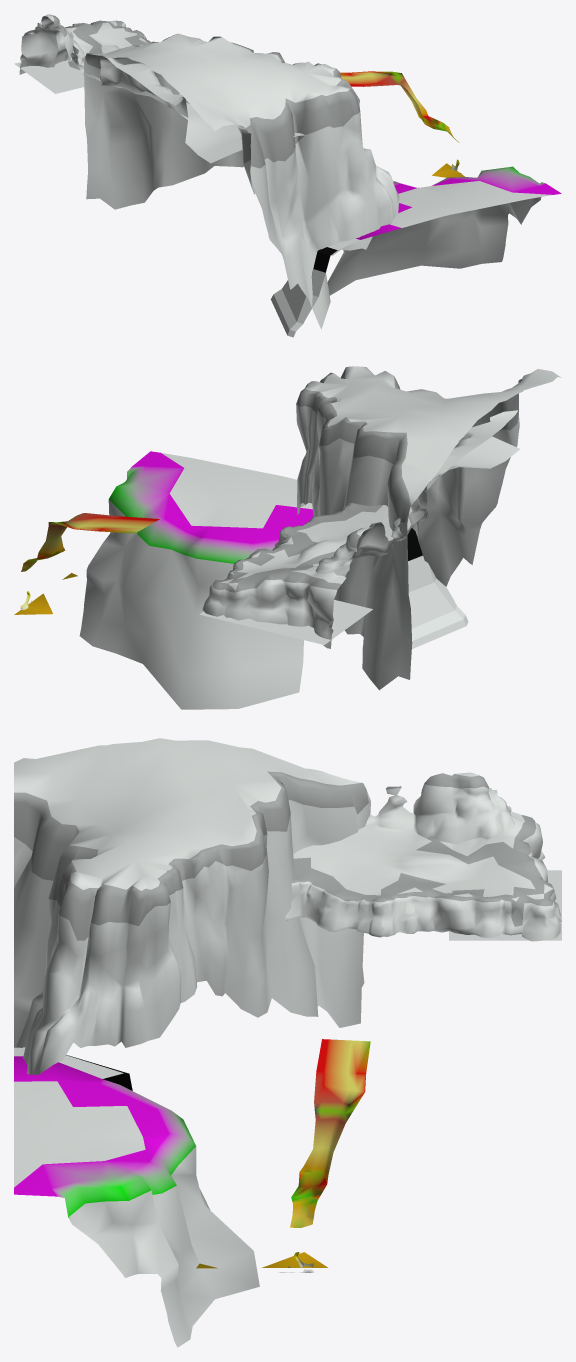
3 views of the same model, one above another, from view 1: azimuth 30°, elevation 25°; view 2: azimuth 150°, elevation 25°; view 3: azimuth 270°, elevation 25° (orthographic). The views are drawn at different scales.
Visible parts, largest first — view 1: G:\FFXIV-MapTools\exports\f1f1\bg\ffxiv\fst_f1\fld\f1f1\bgpl (×8); view 2: G:\FFXIV-MapTools\exports\f1f1\bg\ffxiv\fst_f1\fld\f1f1\bgpl (×10); view 3: G:\FFXIV-MapTools\exports\f1f1\bg\ffxiv\fst_f1\fld\f1f1\bgpl (×9).
Part boxes in pixels (box(x1,y1,x2,y2)): G:\FFXIV-MapTools\exports\f1f1\bg\ffxiv\fst_f1\fld\f1f1\bgpl (×8): box(14, 14, 561, 337); G:\FFXIV-MapTools\exports\f1f1\bg\ffxiv\fst_f1\fld\f1f1\bgpl (×10): box(14, 366, 561, 709); G:\FFXIV-MapTools\exports\f1f1\bg\ffxiv\fst_f1\fld\f1f1\bgpl (×9): box(14, 738, 561, 1347).
Bounding box in the file's own units: 128 × 102 × 128.
